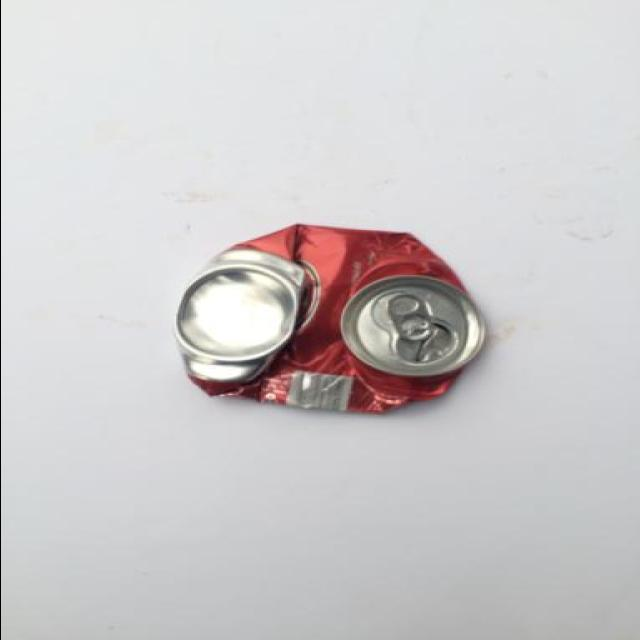litter: (173, 226, 487, 414)
